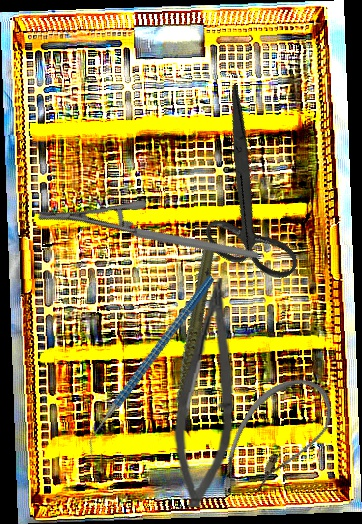Cannula: (206, 361, 344, 521)
Chopper: (43, 274, 259, 460)
Handpiece: (128, 245, 252, 436)
Iris Scissors: (141, 83, 352, 302)
Micro Scissor: (169, 276, 241, 509)
Needle Holder: (34, 146, 260, 325)
